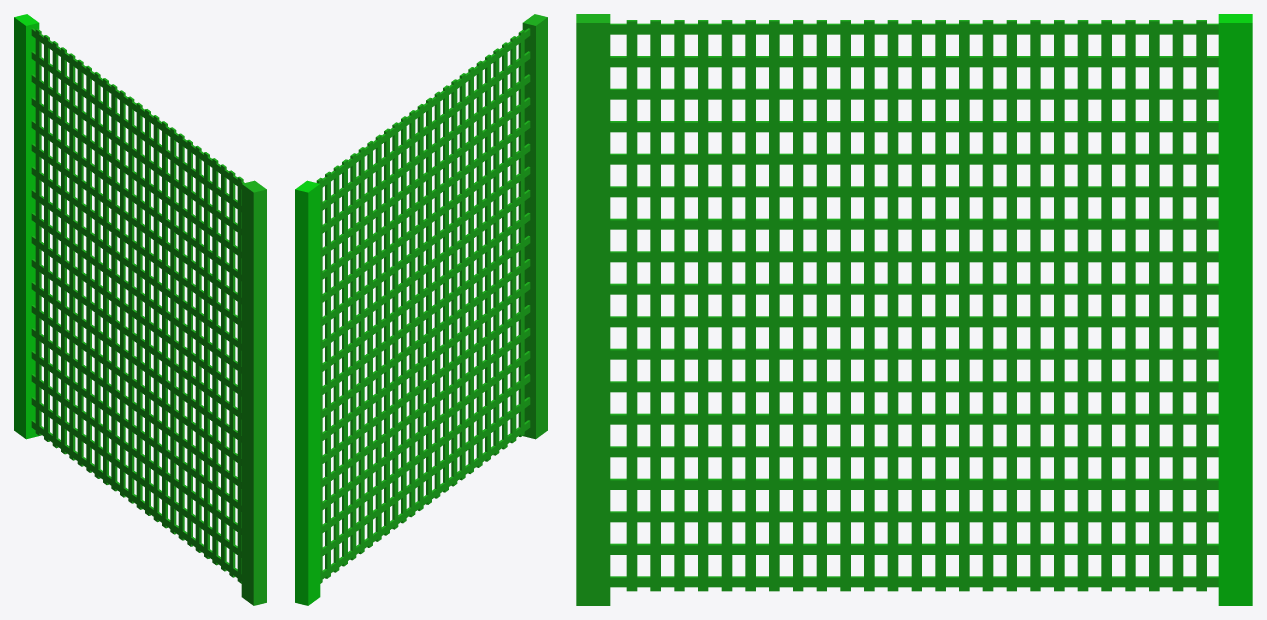
File: zabor.fbx
The picture shows the model from 3 angles, left to right: view 1: azimuth 30°, elevation 25°; view 2: azimuth 150°, elevation 25°; view 3: azimuth 270°, elevation 25°; orthographic projection. The views are drawn at different scales.
Visible parts, largest first — view 1: Cube.003; view 2: Cube.003; view 3: Cube.003.
Boxes of the visible parts, bbox=[...] form: Cube.003: bbox=[14, 14, 266, 605]; Cube.003: bbox=[295, 14, 547, 605]; Cube.003: bbox=[576, 14, 1252, 605].
Size of the model in its own units: 12.6 by 379 by 399.
